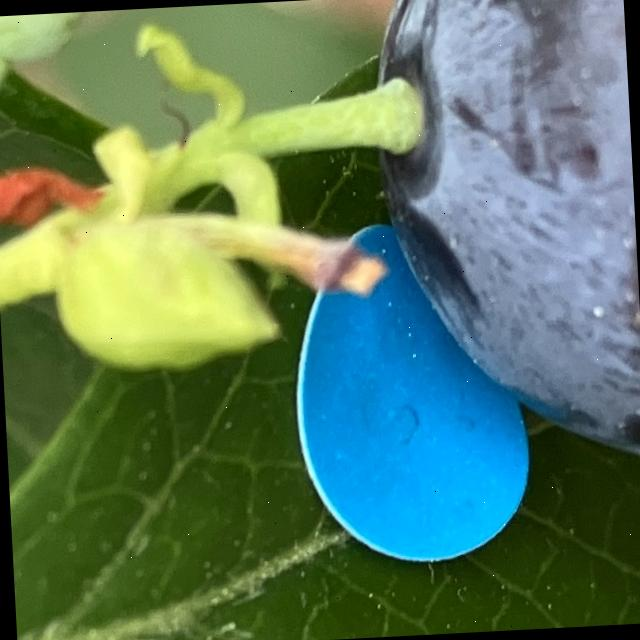Blueberries: (361, 0, 640, 487)
